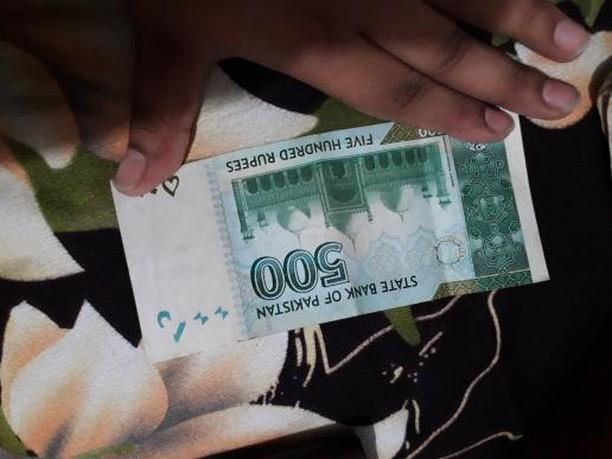500 rupee: (107, 134, 568, 356)
